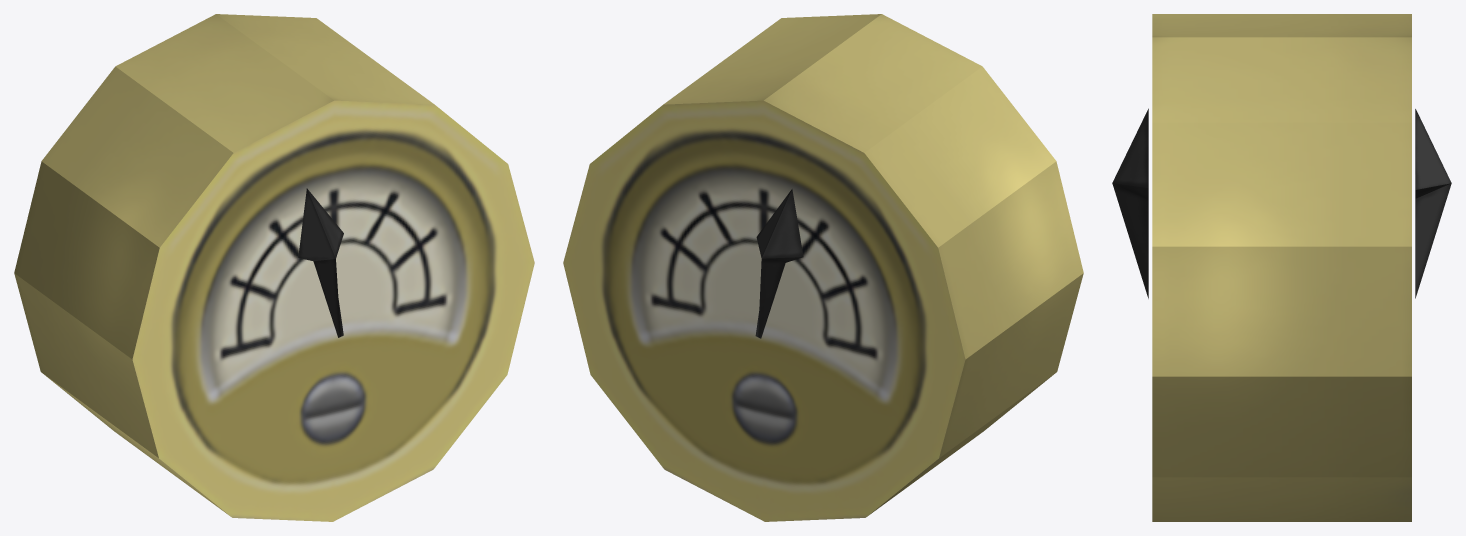
The model's file is gaugePart.fbx.
3 renders of one model, left to right at view 1: azimuth 30°, elevation 25°; view 2: azimuth 150°, elevation 25°; view 3: azimuth 270°, elevation 25°, orthographic. The views are drawn at different scales.
Visible parts, largest first — view 1: gaugePart; view 2: gaugePart; view 3: gaugePart.
Part boxes in pixels (x1,y1,x2,y2): gaugePart: (14, 14, 534, 521); gaugePart: (563, 14, 1083, 521); gaugePart: (1112, 14, 1451, 521).
Size of the model in its own units: 0.0816 by 0.0816 by 0.0544.
